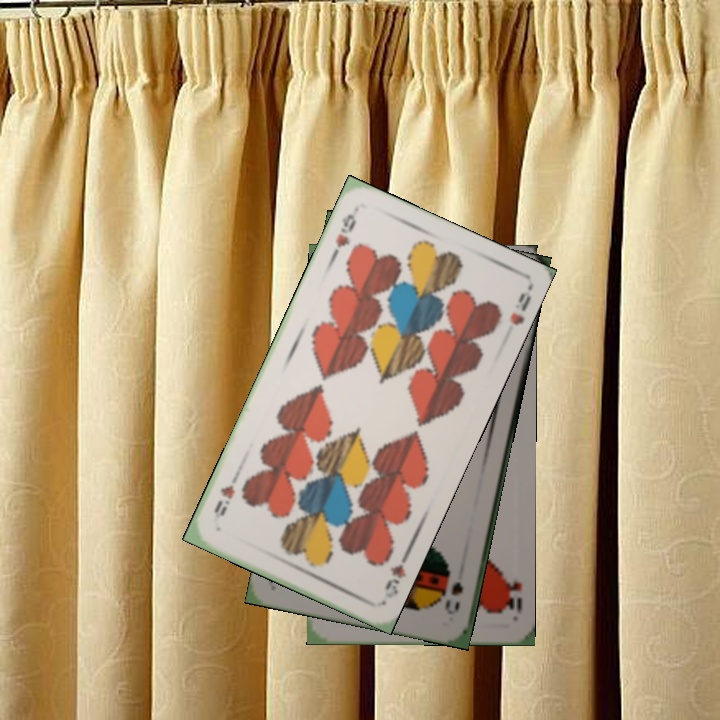H9: (381, 548, 412, 601), (331, 210, 359, 250)
HO: (500, 574, 525, 617)
SO: (440, 578, 466, 618)
